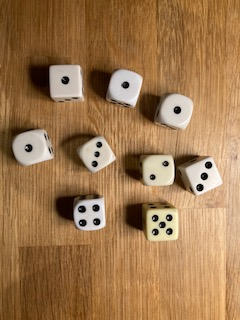five: (140, 201, 179, 242)
four: (72, 193, 107, 232)
one: (152, 93, 195, 131), (12, 128, 55, 166), (105, 68, 144, 108), (48, 64, 86, 103)
three: (177, 154, 224, 197), (75, 134, 117, 174)
two: (139, 152, 177, 188)
